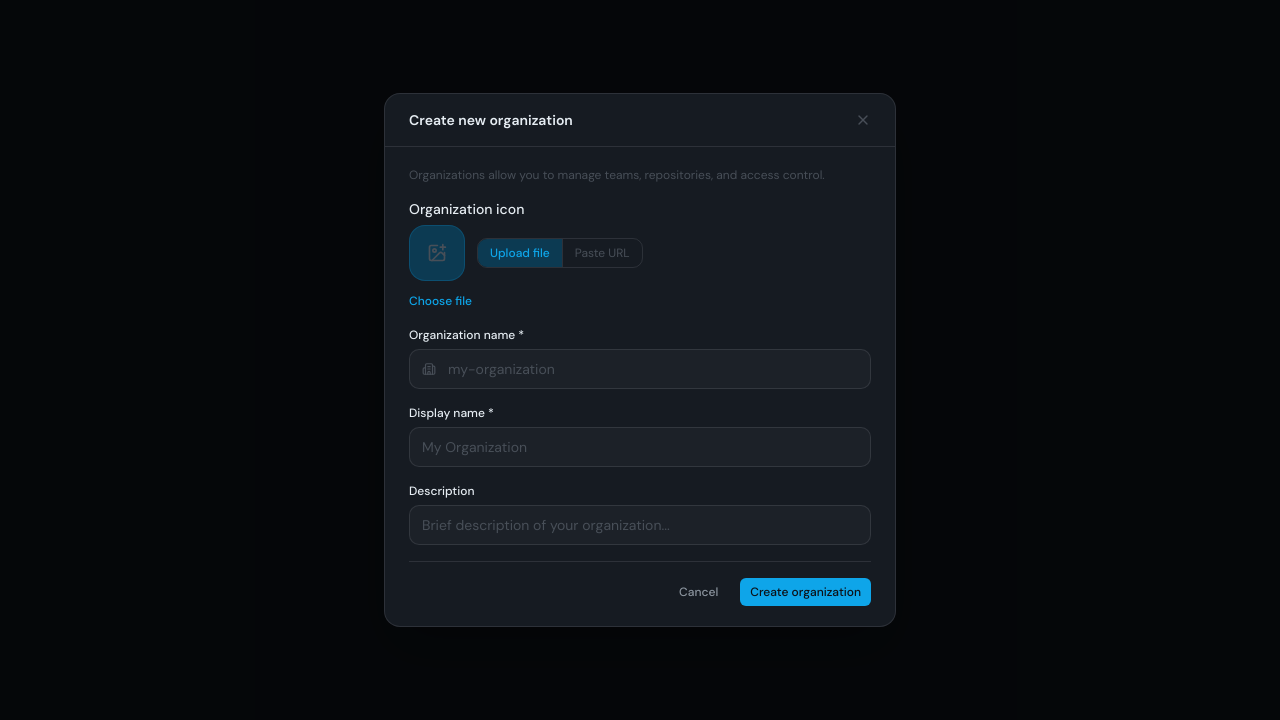
Test: CreateOrganizationModal › form validation: name › shows error when name is shorter than 3 characters
The width and height of the screenshot is (1280, 720).
Type "ab" into the field labelled "Organization name *". click: (653, 369)
box: [436, 350, 870, 388]
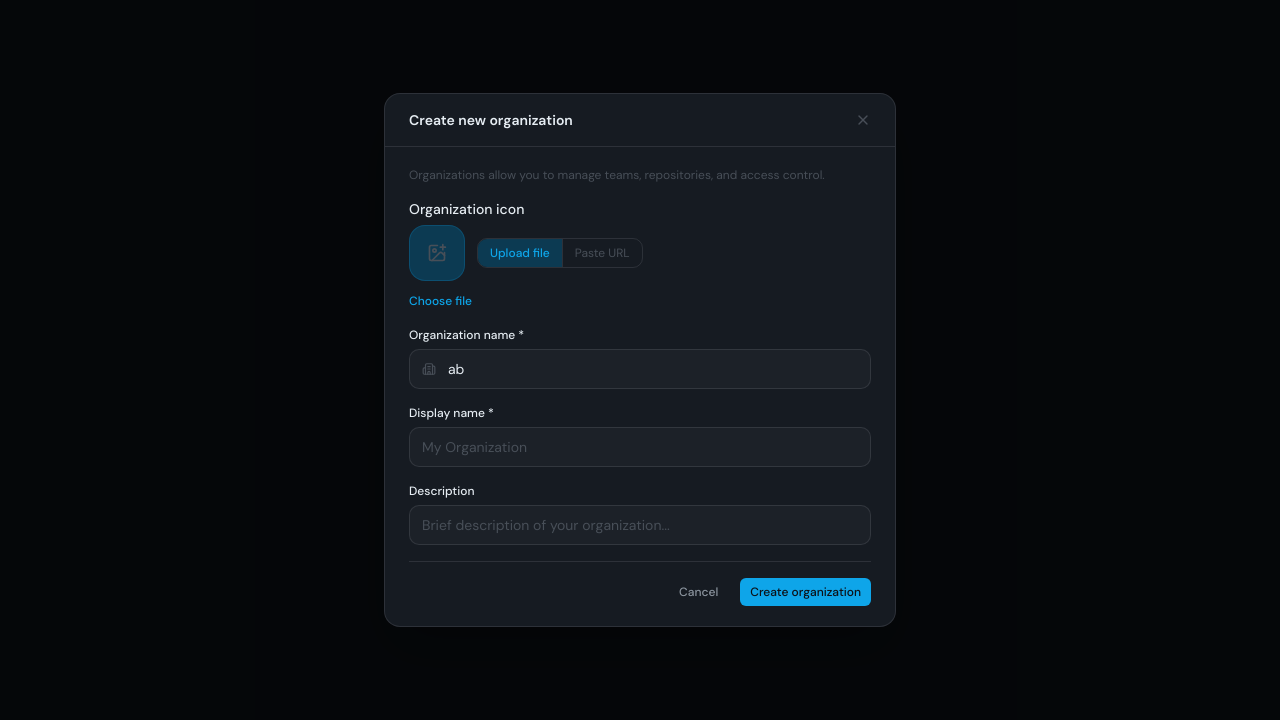
Type "My Org" into the field labelled "Display name *". click: (640, 447)
box: [410, 428, 870, 466]
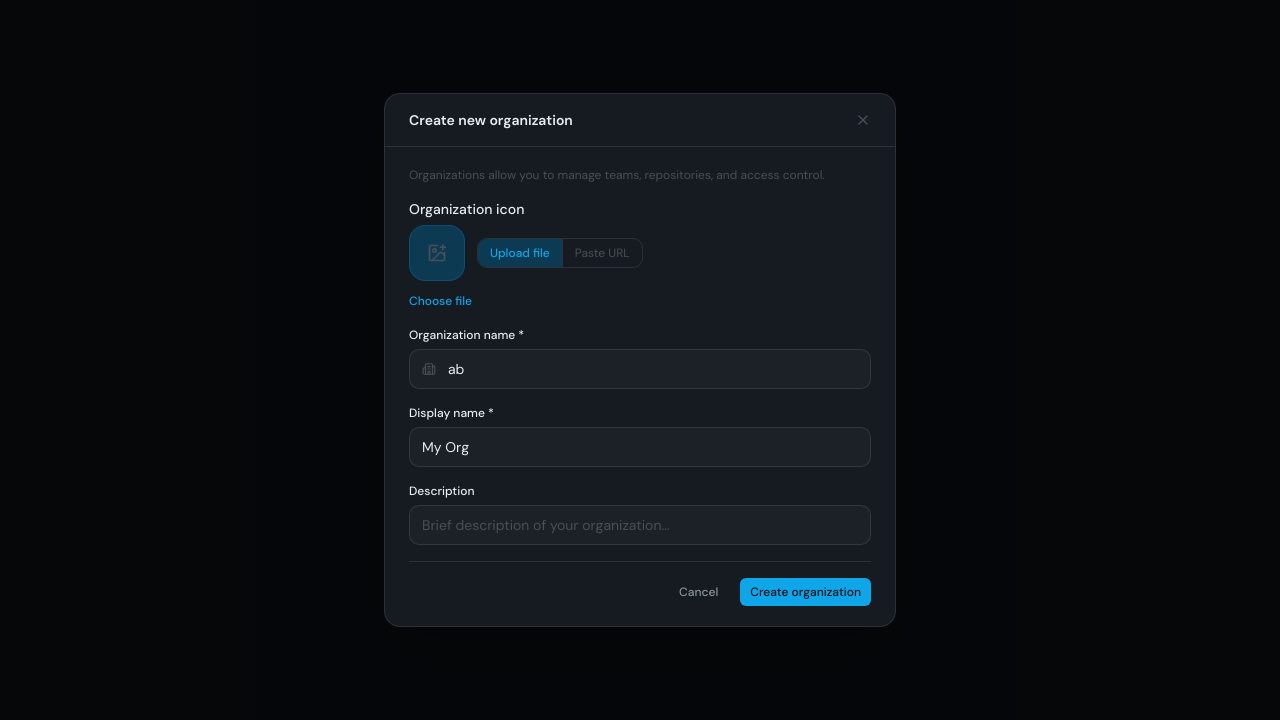
Click the button "Create organization". click: (806, 592)
box: [740, 578, 871, 606]
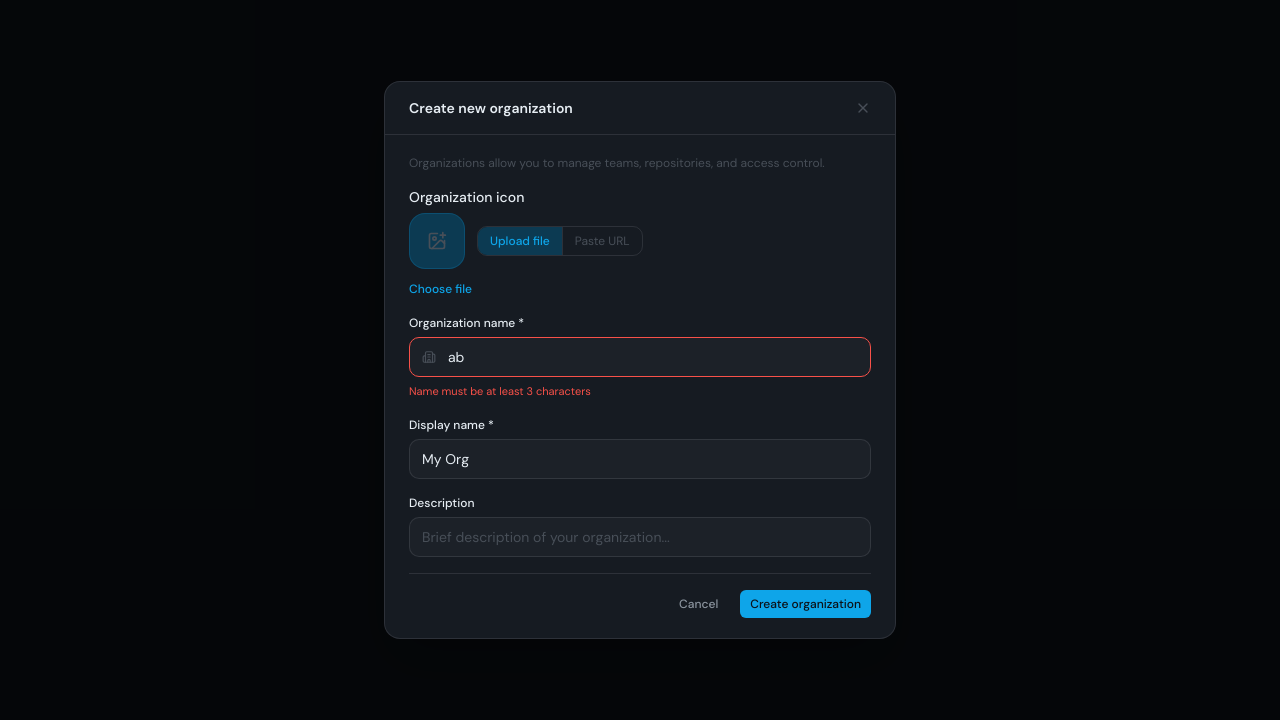
expect the text "Name must be at least 3 characters" is shown: met, box [409, 384, 591, 398]
